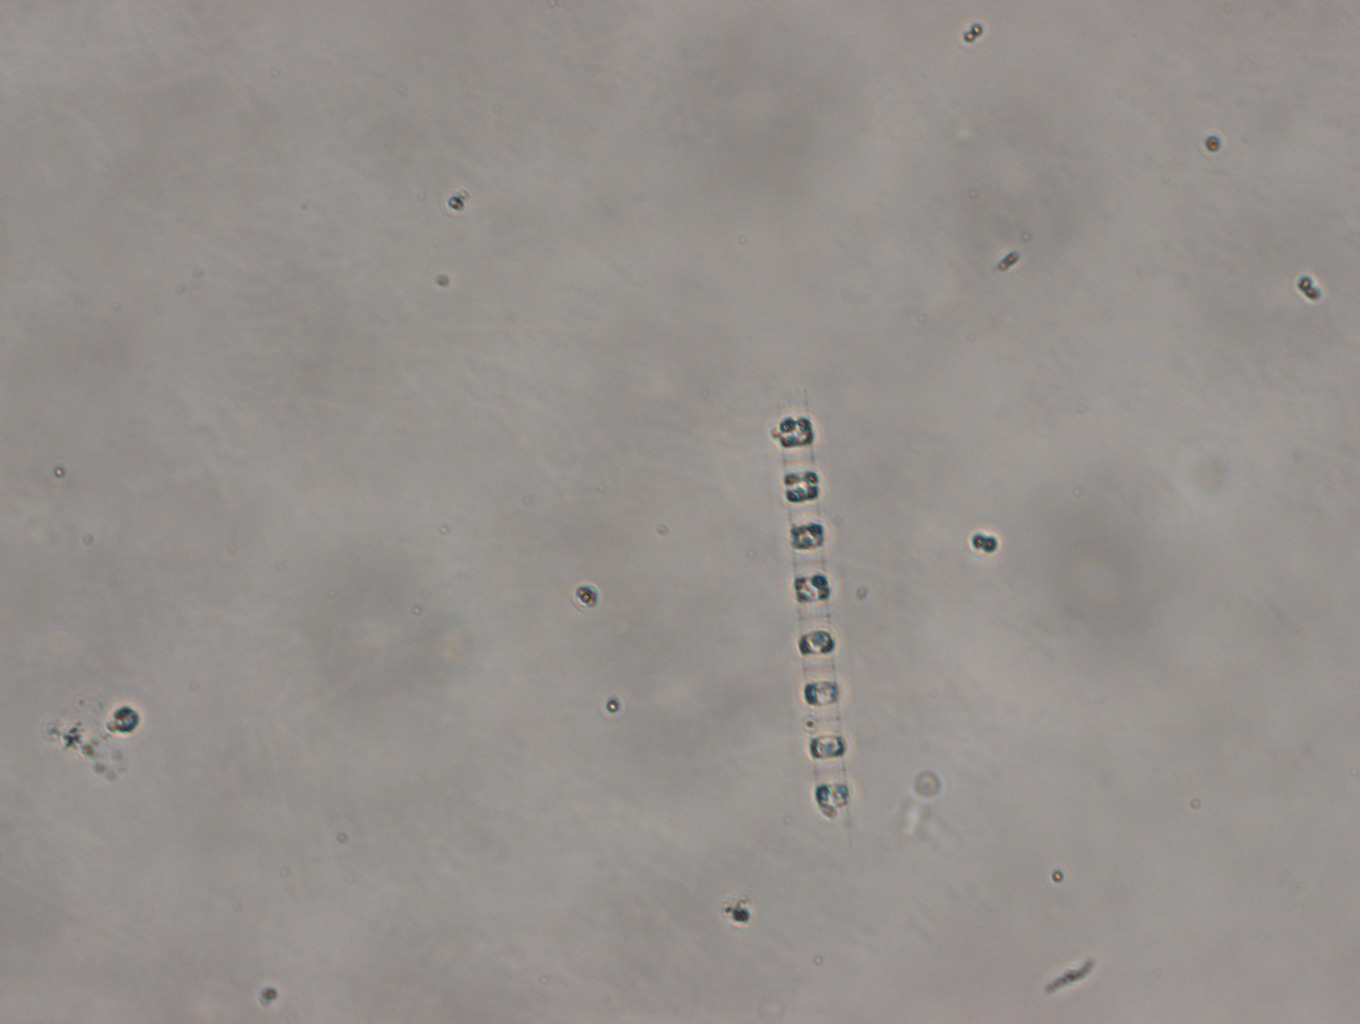skeletonema: (773, 387, 851, 829)
